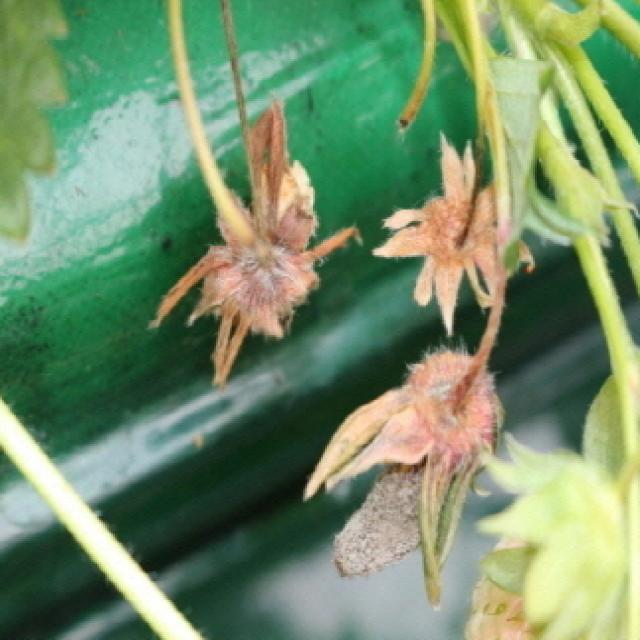Gray Mold: (151, 99, 361, 392), (303, 348, 502, 602)
